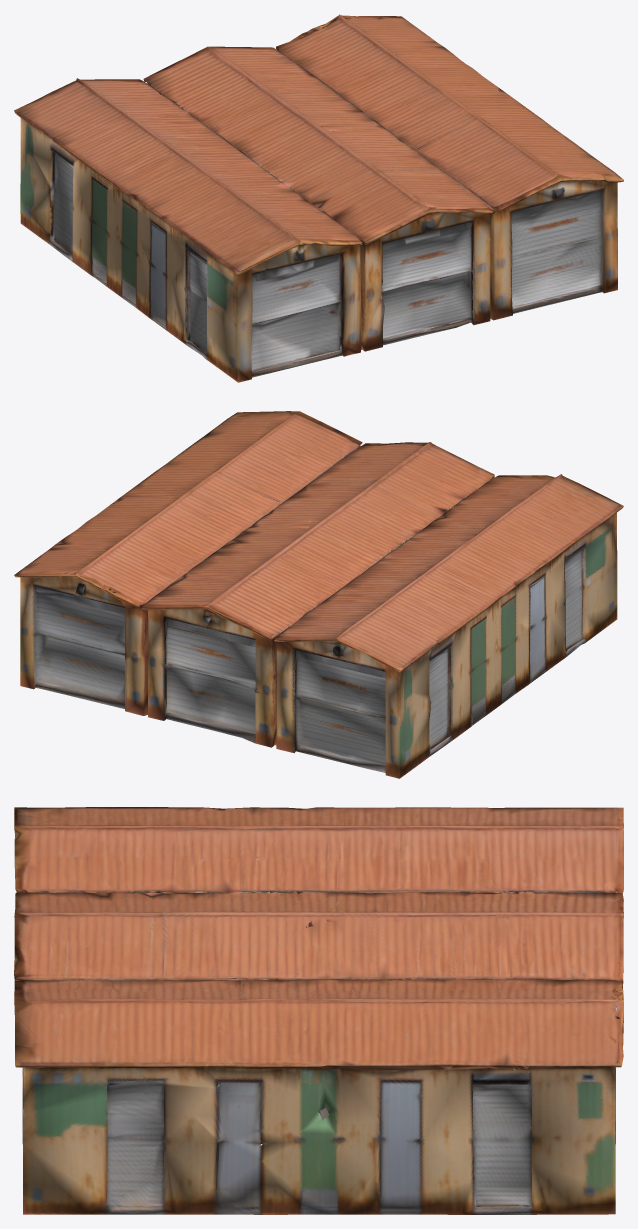
File: sheds_01.glb
3 renders of one model, top to bottom at view 1: azimuth 30°, elevation 25°; view 2: azimuth 150°, elevation 25°; view 3: azimuth 270°, elevation 25°, orthographic. The views are drawn at different scales.
Size of the model in its own units: 2 by 0.6399 by 2.
1 material, 1 textured.
